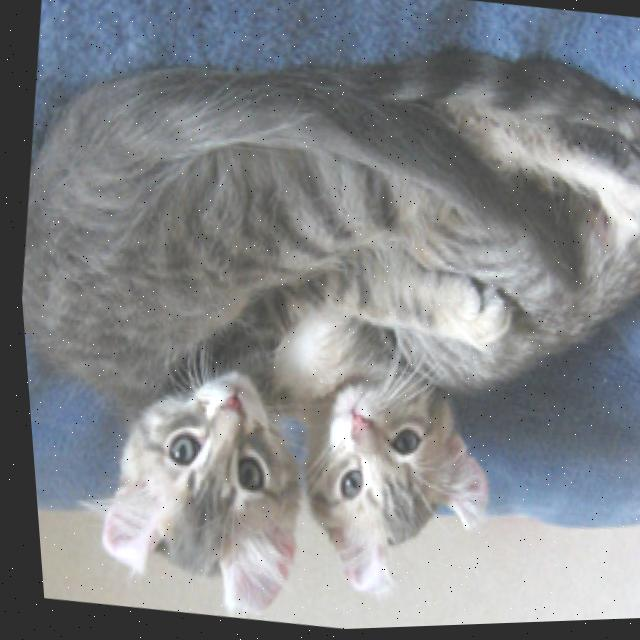American Curl: (253, 33, 640, 633), (3, 40, 360, 633)
